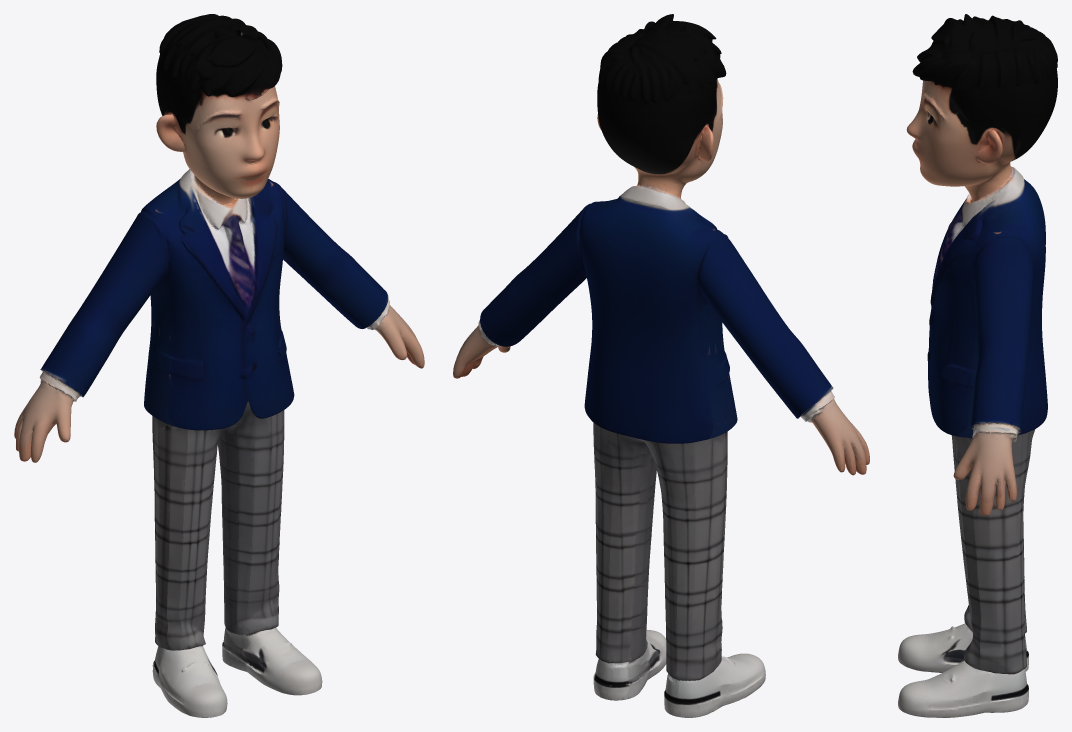
File: avatar.glb
3 views of the same model, side by side, from view 1: azimuth 30°, elevation 25°; view 2: azimuth 150°, elevation 25°; view 3: azimuth 270°, elevation 25° (orthographic).
Parts seen in each view (by area): view 1: model; view 2: model; view 3: model.
Boxes of the visible parts, x1,y1,x2,y2 form: model: (14,14,424,717); model: (453,14,869,717); model: (898,14,1057,717).
Size of the model in its own units: 1.21 by 1.9 by 0.4136.
1 material, 1 textured.
